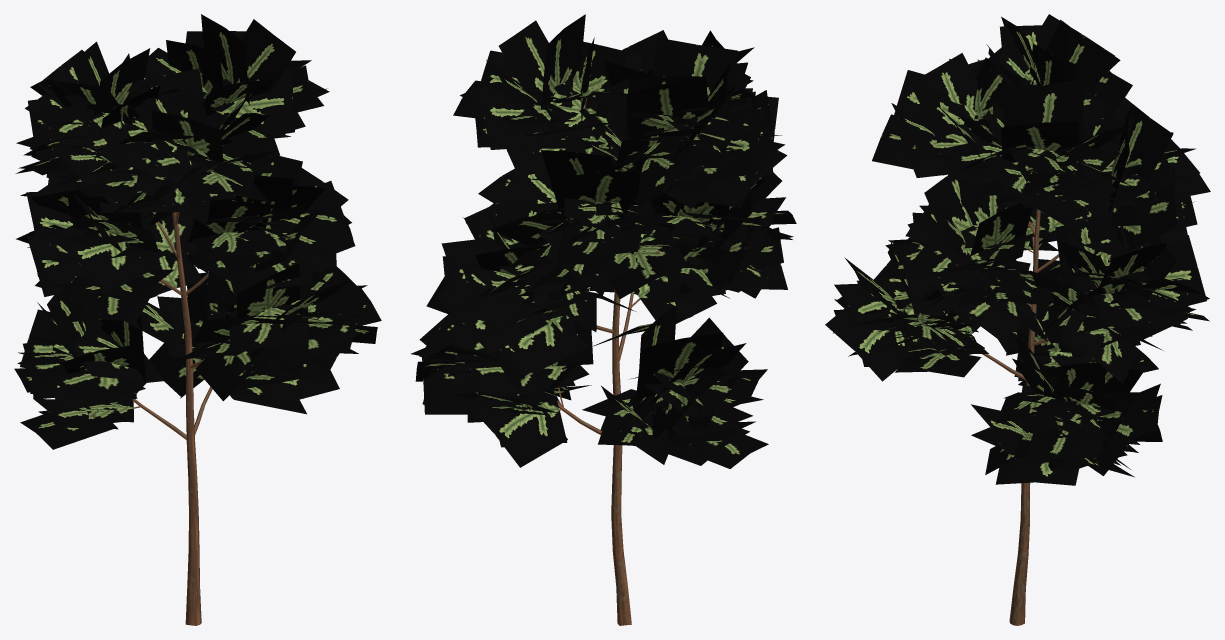
The model's file is borovice_mlada.glb.
3 renders of one model, left to right at view 1: azimuth 30°, elevation 25°; view 2: azimuth 150°, elevation 25°; view 3: azimuth 270°, elevation 25°, orthographic. The views are drawn at different scales.
Parts seen in each view (by area): view 1: borovice_mlada; view 2: borovice_mlada; view 3: borovice_mlada.
Part boxes in pixels (x1,y1,x2,y2): borovice_mlada: [14, 14, 381, 625]; borovice_mlada: [411, 14, 796, 625]; borovice_mlada: [825, 14, 1210, 625].
Size of the model in its own units: 4.73 by 8.03 by 4.97.
Materials: 2 (2 with a texture image).
